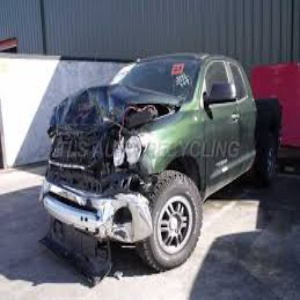bonnet: (59, 84, 151, 132)
bumper: (55, 179, 152, 243)
